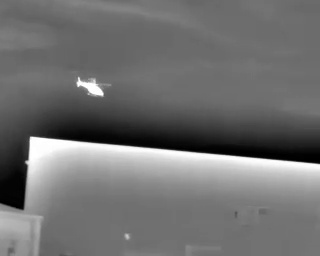HELICOPTER: (72, 73, 117, 106)
